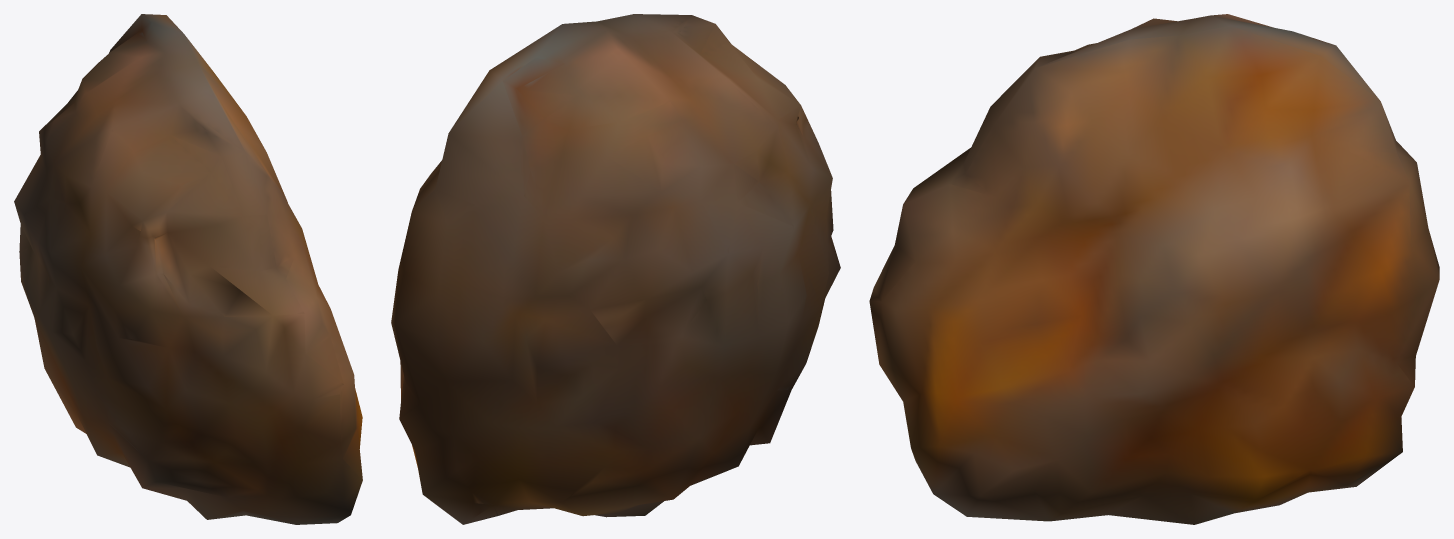
The model's file is amberrock.glb.
The picture shows the model from 3 angles, left to right: view 1: azimuth 30°, elevation 25°; view 2: azimuth 150°, elevation 25°; view 3: azimuth 270°, elevation 25°; orthographic projection. The views are drawn at different scales.
Parts seen in each view (by area): view 1: model; view 2: model; view 3: model.
Boxes of the visible parts, bbox=[...] form: model: bbox=[14, 14, 362, 524]; model: bbox=[391, 14, 840, 524]; model: bbox=[869, 14, 1439, 524].
Size of the model in its own units: 0.2428 by 0.3751 by 0.3974.
1 material, 1 textured.
